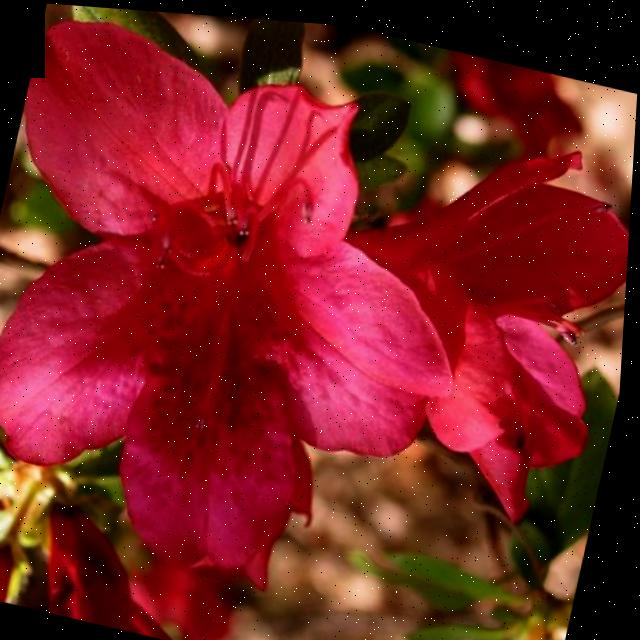azalea: (0, 0, 518, 633)
